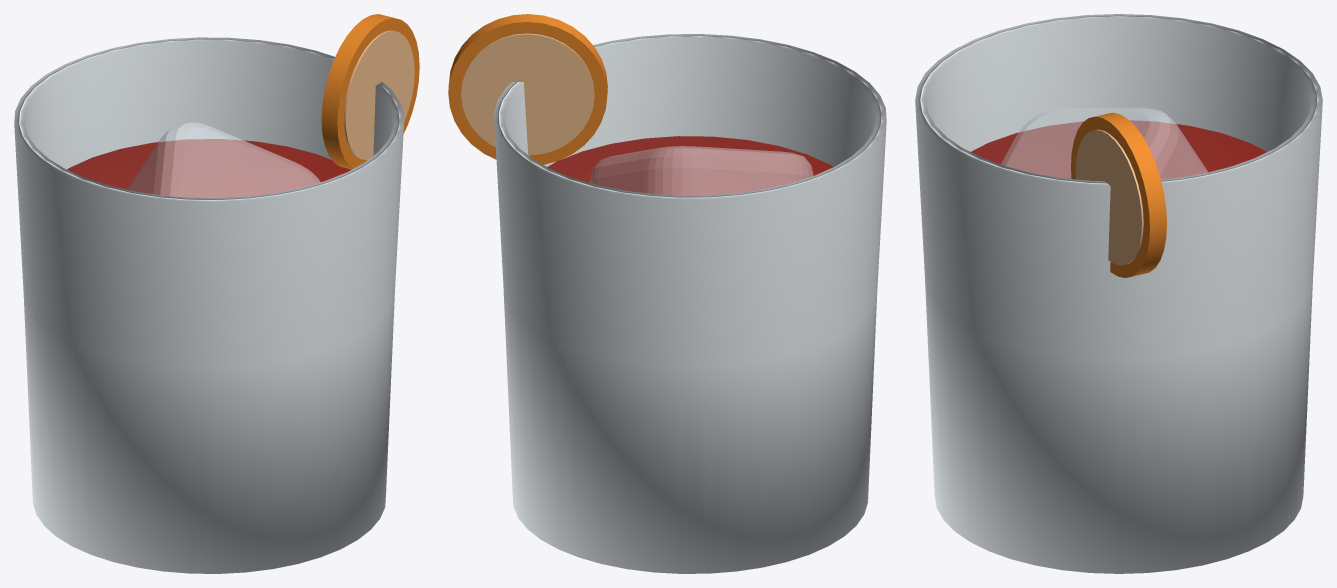
Rendered from bibite-negroni.glb.
3 renders of one model, left to right at view 1: azimuth 30°, elevation 25°; view 2: azimuth 150°, elevation 25°; view 3: azimuth 270°, elevation 25°, orthographic. The views are drawn at different scales.
Size of the model in its own units: 0.0979 by 0.104 by 0.084.
